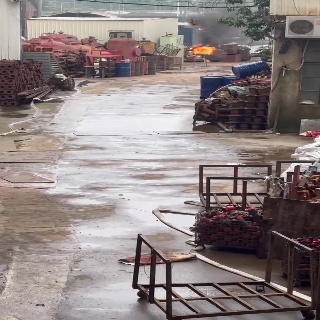fire: (193, 46, 215, 54)
